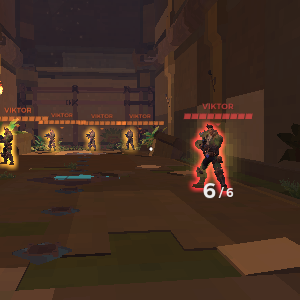model: (193, 124, 225, 191), (1, 126, 16, 169), (43, 126, 59, 154), (84, 128, 100, 151), (123, 127, 136, 152)
